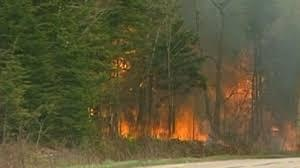fire: (136, 106, 211, 140), (223, 75, 256, 102), (117, 106, 138, 139), (109, 53, 130, 77)
